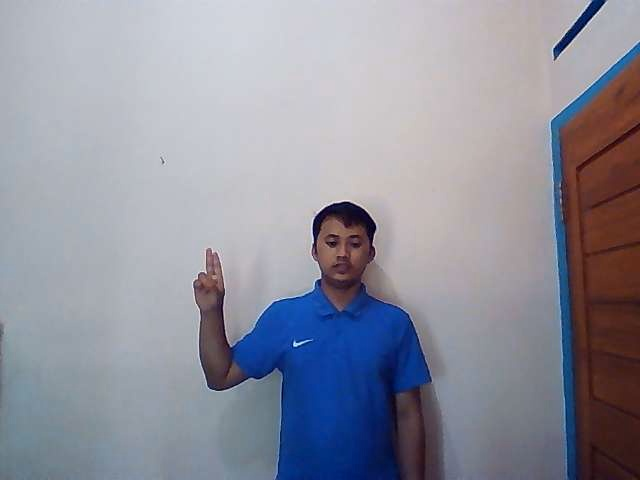U: (191, 247, 226, 311)
